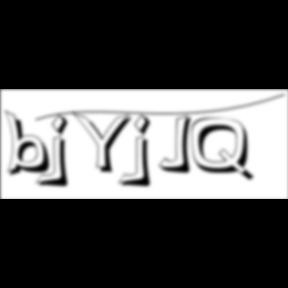J: (160, 114, 198, 176)
Q: (191, 117, 257, 184)
Y: (72, 110, 138, 176)
b: (4, 109, 58, 179)
j: (48, 113, 76, 191), (132, 113, 158, 191)
